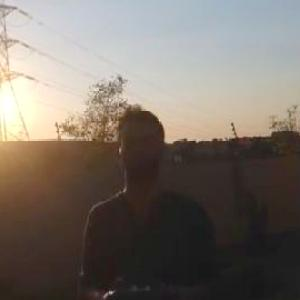follow: (74, 97, 216, 299)
